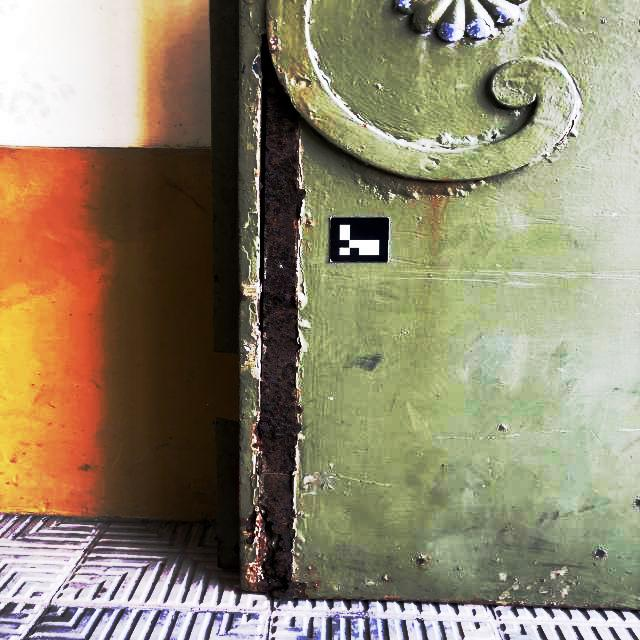Corrosion: (246, 40, 310, 598), (381, 597, 502, 605), (506, 602, 576, 608), (241, 562, 255, 591), (266, 15, 277, 51), (591, 606, 633, 609), (318, 596, 346, 599), (241, 518, 250, 527), (311, 582, 320, 591), (217, 557, 224, 568), (595, 549, 604, 557), (417, 559, 427, 565), (234, 544, 238, 558), (351, 596, 364, 600), (241, 293, 245, 301), (636, 499, 640, 506), (306, 221, 311, 224), (387, 578, 391, 581), (557, 573, 560, 576), (355, 587, 358, 589), (443, 464, 444, 466)
